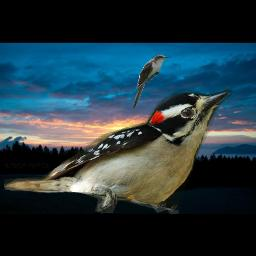Cuckoo: (131, 54, 168, 110)
Woodpecker: (4, 84, 232, 214)
